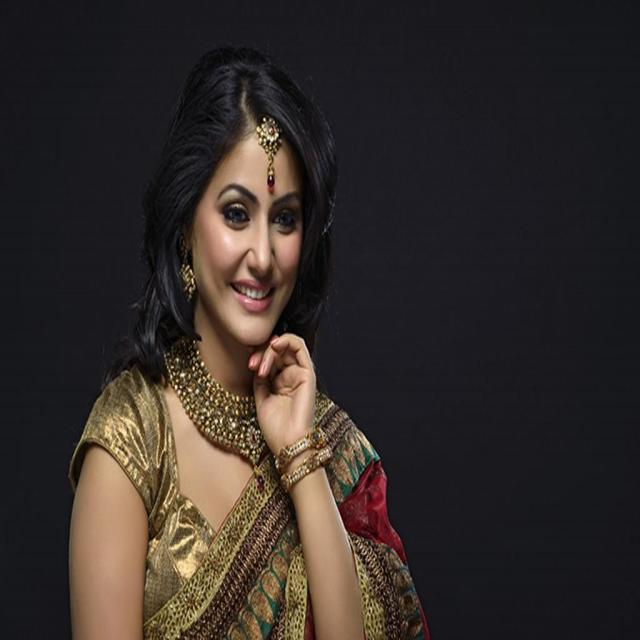nomask: (204, 140, 298, 342)
